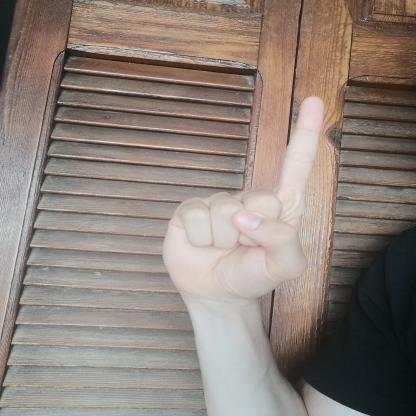BAA: (148, 83, 356, 312)
